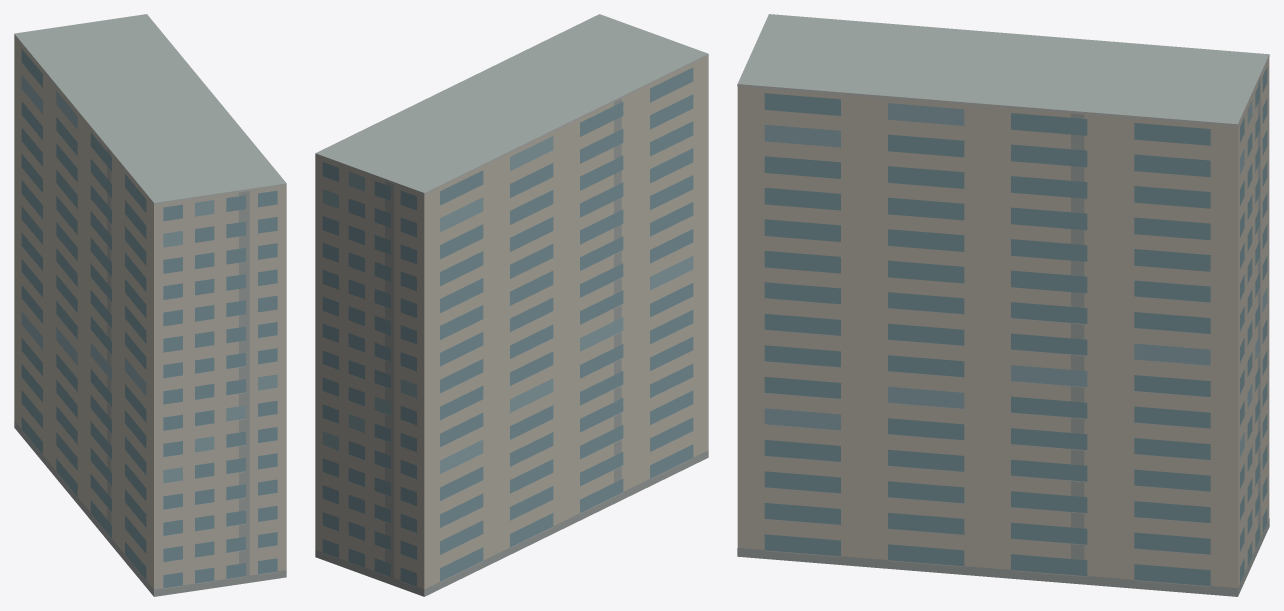
Rendered from residential-e111115e-6473-46ab-a288-0ef0f28dfbd3.glb.
3 renders of one model, left to right at view 1: azimuth 30°, elevation 25°; view 2: azimuth 150°, elevation 25°; view 3: azimuth 270°, elevation 25°, orthographic. The views are drawn at different scales.
Visible parts, largest first — view 1: residential-e111115e-6473-46ab-a288-0ef0f28dfbd3.tmp; view 2: residential-e111115e-6473-46ab-a288-0ef0f28dfbd3.tmp; view 3: residential-e111115e-6473-46ab-a288-0ef0f28dfbd3.tmp.
Part boxes in pixels (x1,y1,x2,y2): residential-e111115e-6473-46ab-a288-0ef0f28dfbd3.tmp: (14, 14, 286, 596); residential-e111115e-6473-46ab-a288-0ef0f28dfbd3.tmp: (315, 14, 708, 596); residential-e111115e-6473-46ab-a288-0ef0f28dfbd3.tmp: (737, 14, 1269, 596).
Bounding box in the file's own units: 22.89 × 45.75 × 46.68.
